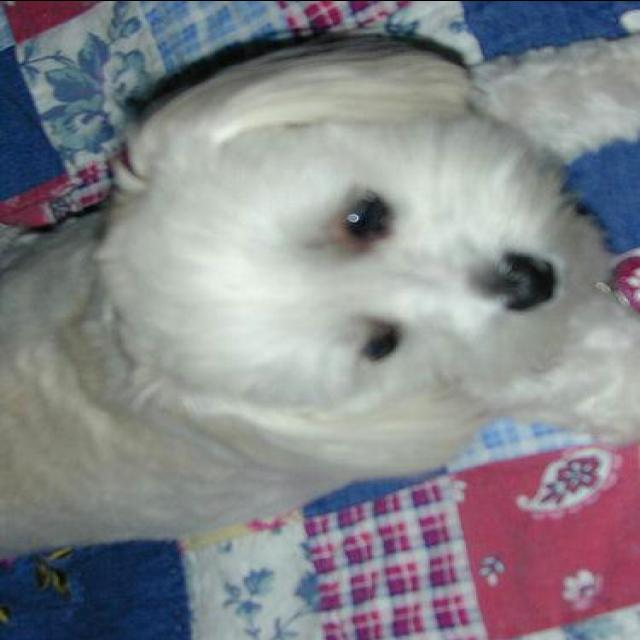maltese_dog: (2, 32, 638, 552)
